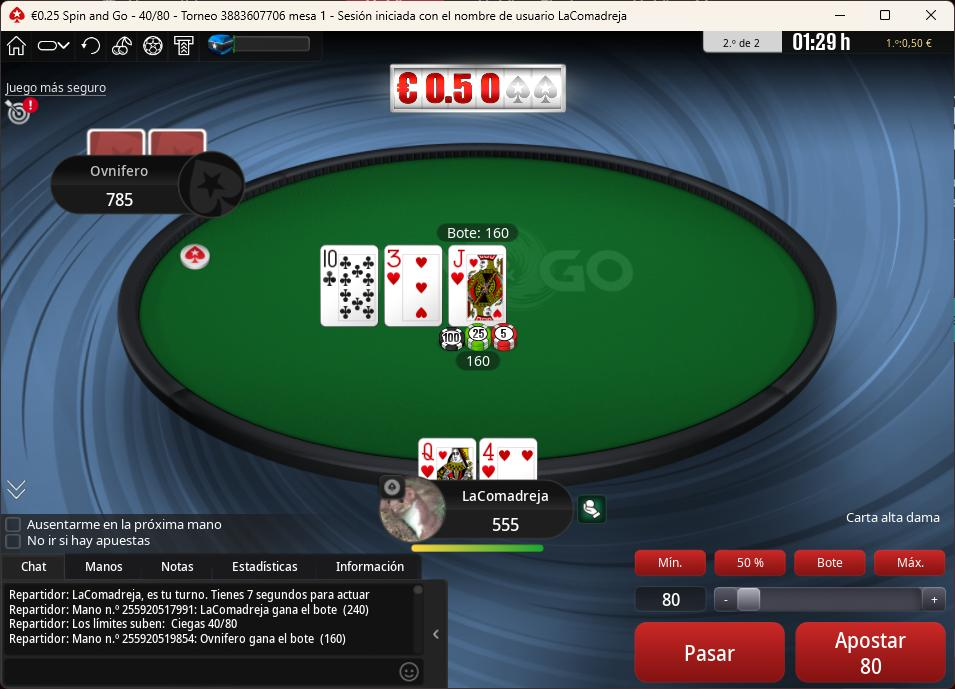Button3PotRaise: (715, 549, 785, 575)
ButtonBet: (795, 620, 947, 684)
ButtonFold: (635, 622, 786, 682)
ButtonMaxRaise: (875, 549, 945, 576)
ButtonMinRaise: (636, 549, 706, 576)
ButtonPotRaise: (793, 550, 865, 576)
Dealer: (182, 245, 210, 271)
HiddenCards: (87, 129, 208, 162)
Player: (51, 153, 246, 216)
PlayerChips: (484, 519, 531, 538), (97, 192, 140, 209)
PlayingCards: (319, 246, 505, 329)
Pot: (436, 222, 519, 244)
PrincipalCards: (418, 437, 538, 483)
PrincipalCards1: (418, 437, 480, 484)
PrincipalCards2: (480, 437, 542, 483)
PrincipalPlayer: (380, 477, 575, 544)
ShowedCards: (318, 245, 512, 332)
ShowedCards1: (319, 246, 383, 331), (318, 246, 381, 327)
ShowedCards2: (383, 246, 446, 330)
ShowedCards3: (446, 242, 508, 328)
TablePot: (421, 325, 525, 379)
